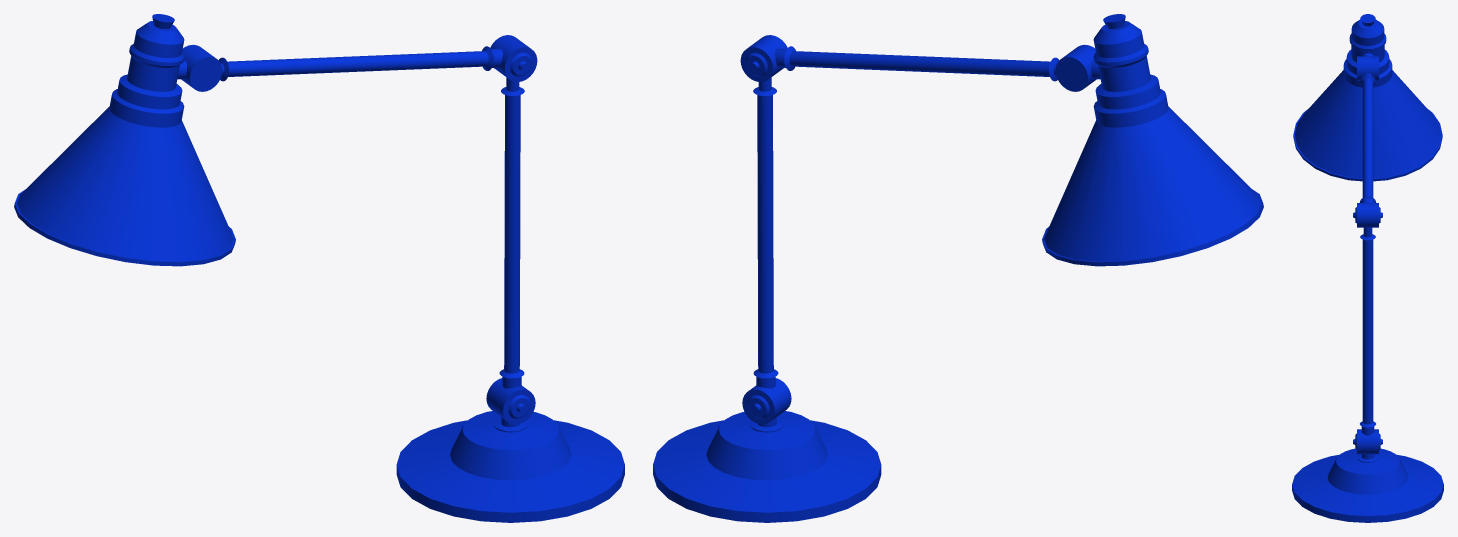
Rendered from Lampara escritorio.fbx.
3 views of the same model, side by side, from view 1: azimuth 30°, elevation 25°; view 2: azimuth 150°, elevation 25°; view 3: azimuth 270°, elevation 25° (orthographic). The views are drawn at different scales.
Parts seen in each view (by area): view 1: lampara_escritorio; view 2: lampara_escritorio; view 3: lampara_escritorio.
Boxes of the visible parts, x1=… form: lampara_escritorio: x1=14, y1=14, x2=624, y2=522; lampara_escritorio: x1=653, y1=14, x2=1263, y2=522; lampara_escritorio: x1=1292, y1=14, x2=1443, y2=522.
Bounding box in the file's own units: 0.8268 × 0.7397 × 0.2817.
